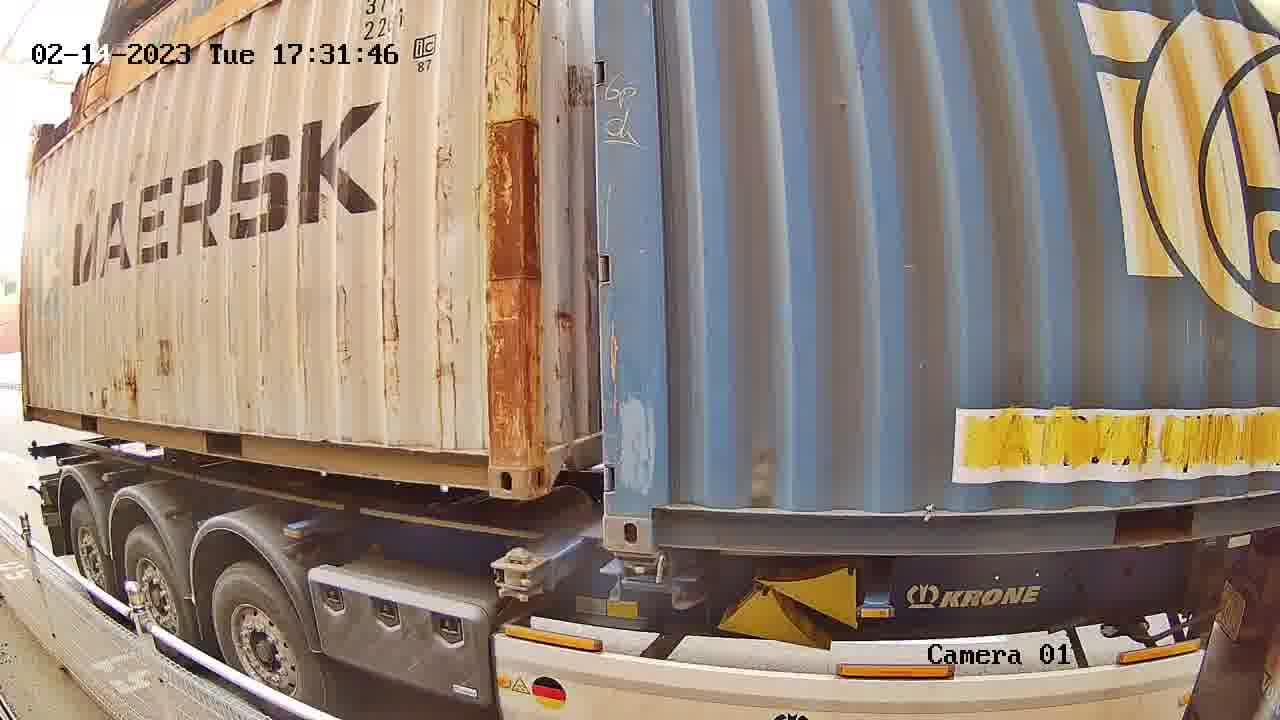Cone: (493, 546, 546, 600), (610, 553, 666, 586)
Hole_L: (605, 472, 694, 553), (526, 414, 581, 499)
Hole_R: (455, 424, 527, 501)
Tire: (212, 563, 323, 716), (123, 527, 192, 658), (70, 502, 113, 610)
